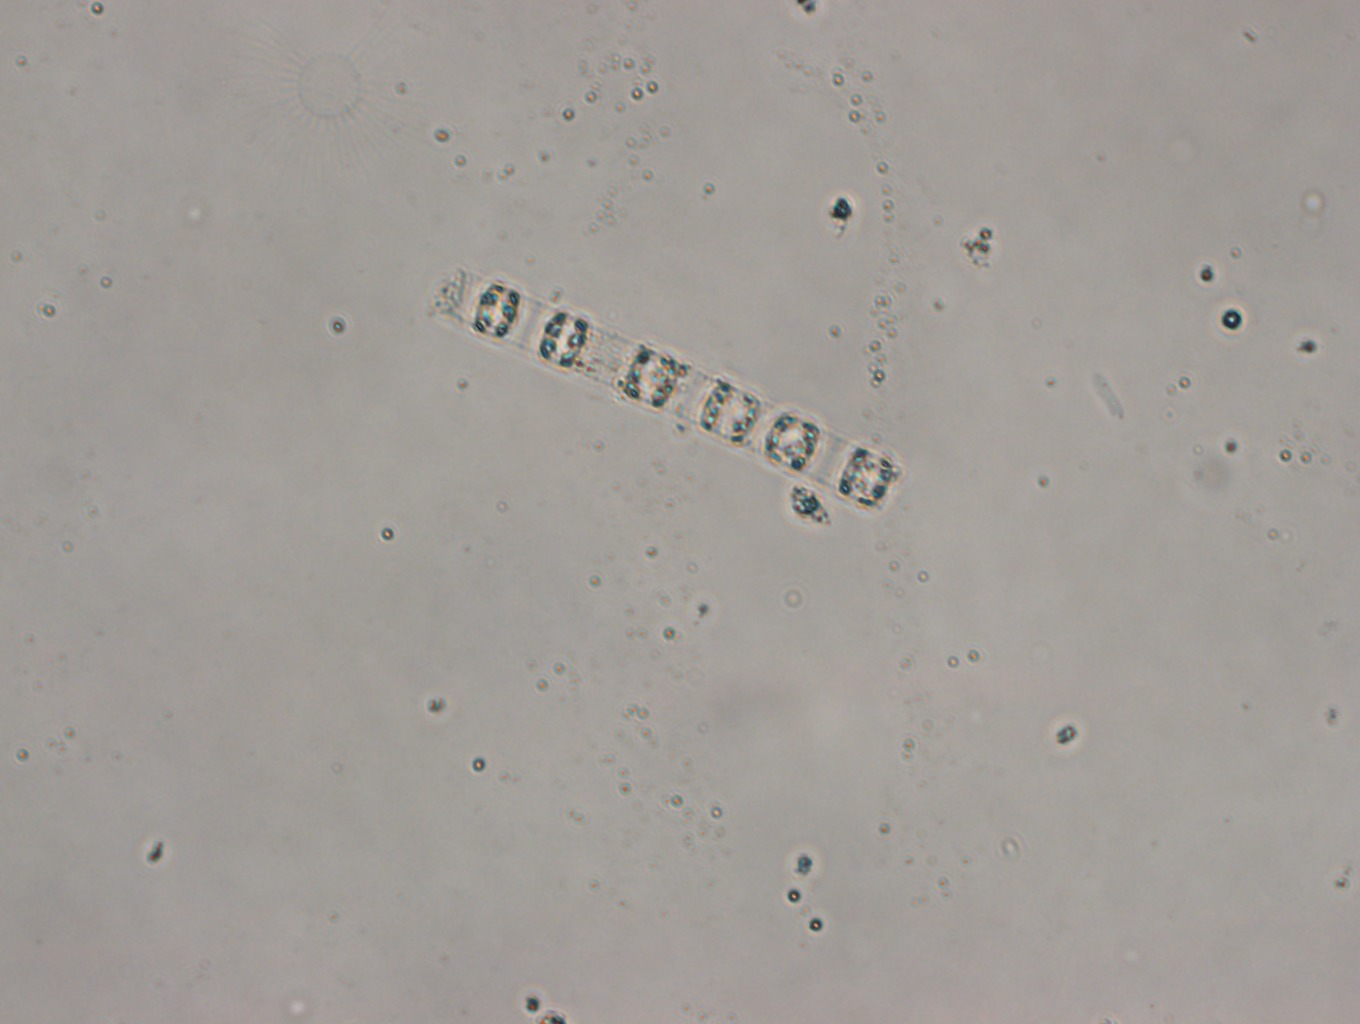skeletonema: (435, 266, 910, 516)
